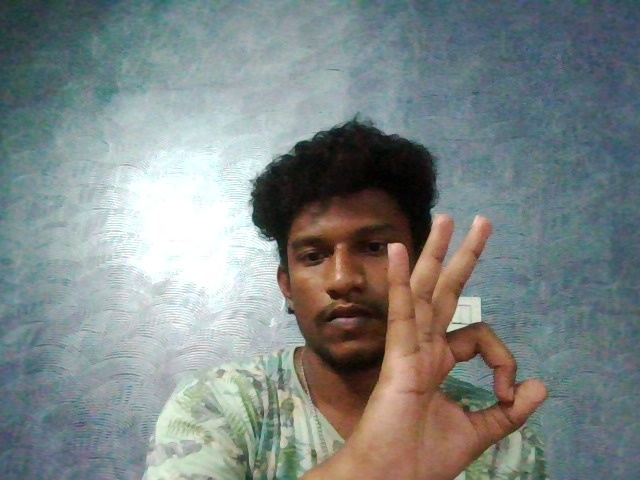good: (291, 196, 590, 472)
